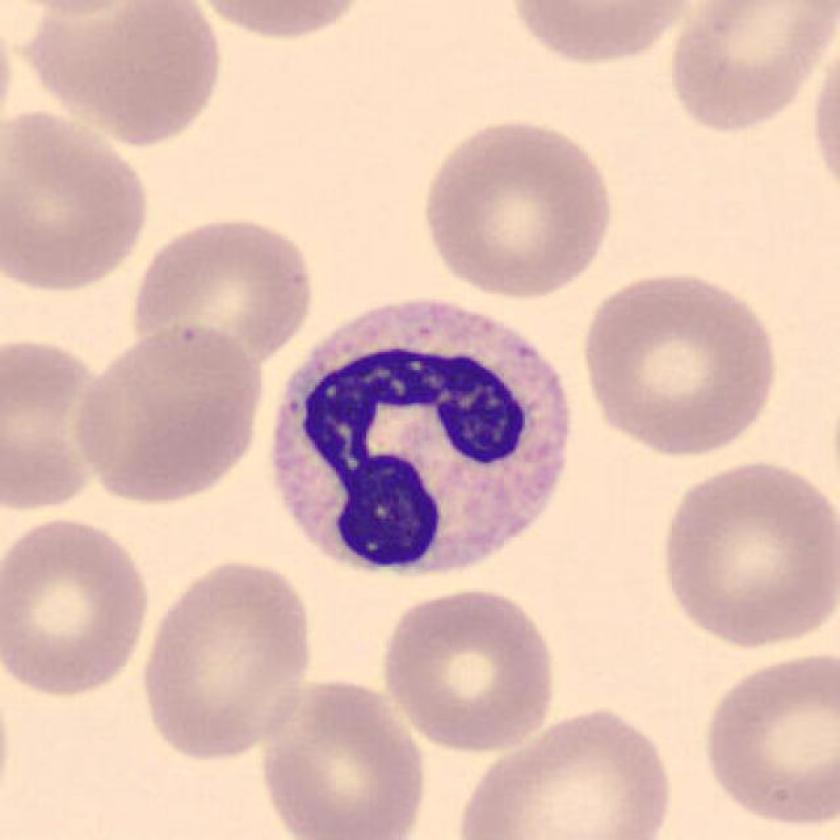neutrophil: (273, 301, 572, 574)
